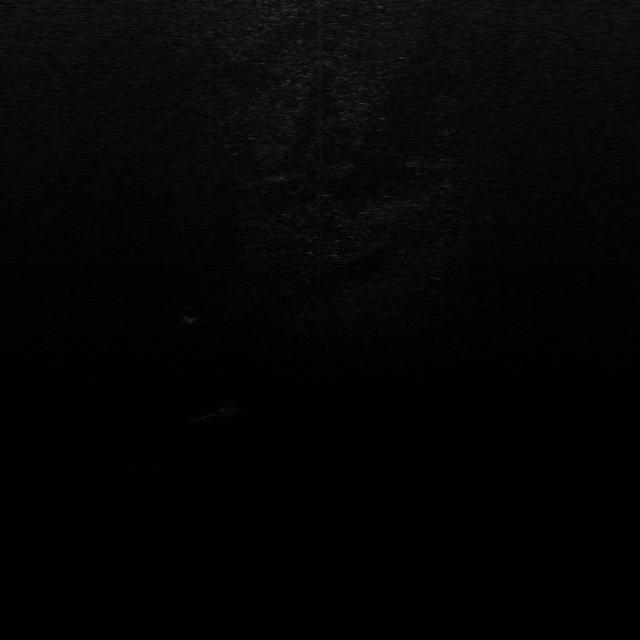ball: (210, 398, 240, 420)
circle cage: (177, 305, 203, 325)
